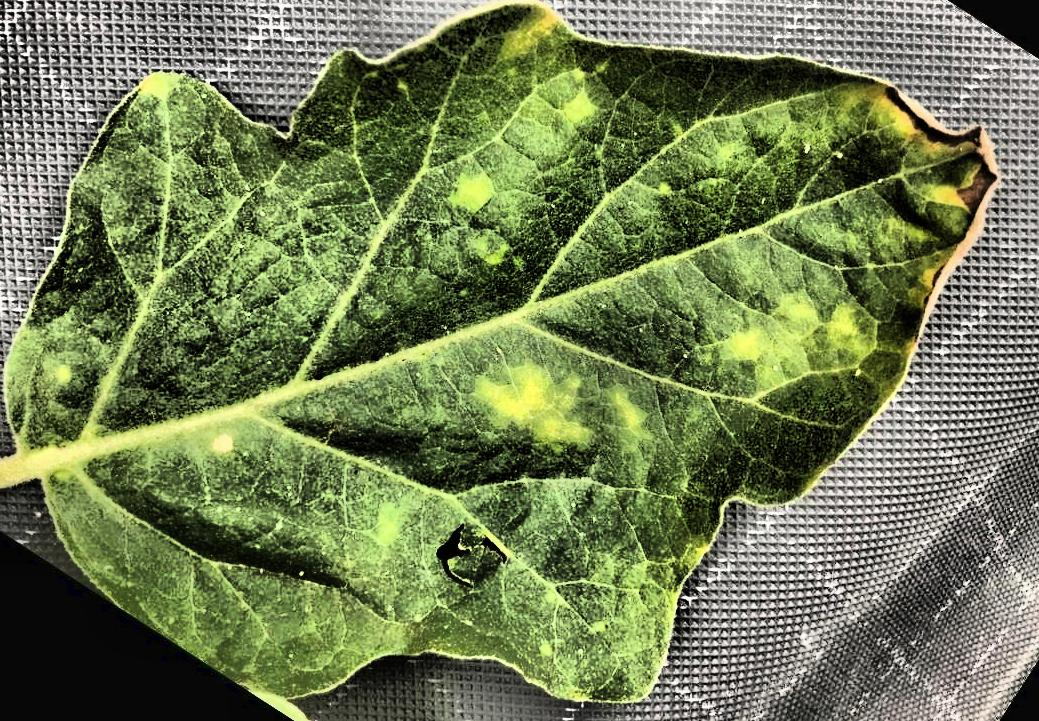Non-critical Stress: (1, 0, 1039, 721)
